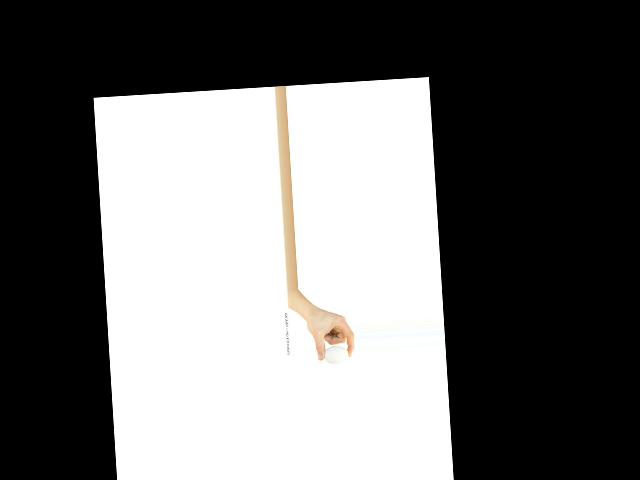egg: (323, 344, 348, 363)
